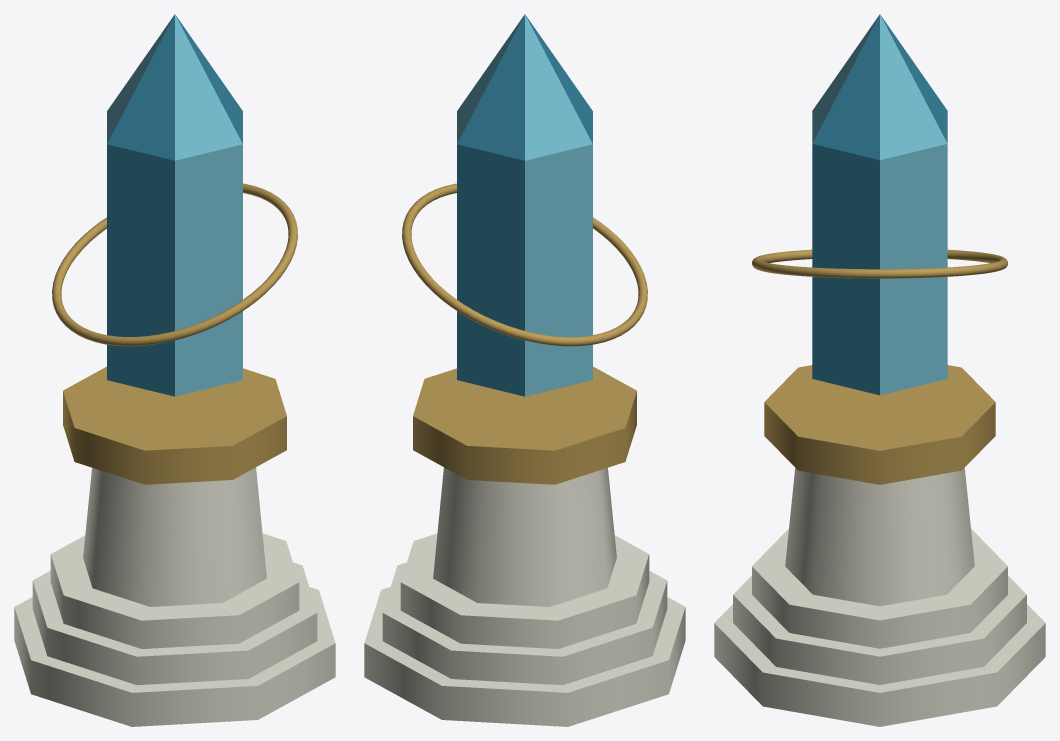
File: waystone.glb
The picture shows the model from 3 angles, left to right: view 1: azimuth 30°, elevation 25°; view 2: azimuth 150°, elevation 25°; view 3: azimuth 270°, elevation 25°; orthographic projection.
Parts seen in each view (by area): view 1: SourceMesh_00003, SourceMesh_00004, SourceMesh_00000, SourceMesh_00009, SourceMesh_00007, SourceMesh_00002, SourceMesh_00001, SourceMesh_00008, SourceMesh_00010, SourceMesh_00017, SourceMesh_00006, SourceMesh_00012; view 2: SourceMesh_00003, SourceMesh_00004, SourceMesh_00000, SourceMesh_00011, SourceMesh_00013, SourceMesh_00002, SourceMesh_00001, SourceMesh_00012, SourceMesh_00014, SourceMesh_00017, SourceMesh_00010, SourceMesh_00016; view 3: SourceMesh_00003, SourceMesh_00004, SourceMesh_00005, SourceMesh_00015, SourceMesh_00000, SourceMesh_00002, SourceMesh_00001, SourceMesh_00006, SourceMesh_00016, SourceMesh_00017, SourceMesh_00008, SourceMesh_00014.
Part boxes in pixels (x1=…): SourceMesh_00003: x1=83, y1=467, x2=266, y2=606; SourceMesh_00004: x1=63, y1=366, x2=286, y2=484; SourceMesh_00000: x1=14, y1=587, x2=335, y2=726; SourceMesh_00009: x1=107, y1=144, x2=174, y2=396; SourceMesh_00007: x1=175, y1=144, x2=242, y2=396; SourceMesh_00002: x1=50, y1=533, x2=299, y2=648; SourceMesh_00001: x1=32, y1=562, x2=317, y2=685; SourceMesh_00008: x1=175, y1=14, x2=242, y2=160; SourceMesh_00010: x1=107, y1=14, x2=174, y2=160; SourceMesh_00017: x1=52, y1=183, x2=297, y2=346; SourceMesh_00006: x1=176, y1=16, x2=242, y2=143; SourceMesh_00012: x1=107, y1=16, x2=173, y2=143; SourceMesh_00003: x1=433, y1=467, x2=616, y2=606; SourceMesh_00004: x1=413, y1=366, x2=636, y2=484; SourceMesh_00000: x1=364, y1=587, x2=685, y2=726; SourceMesh_00011: x1=525, y1=144, x2=592, y2=396; SourceMesh_00013: x1=457, y1=144, x2=524, y2=396; SourceMesh_00002: x1=400, y1=533, x2=649, y2=648; SourceMesh_00001: x1=382, y1=562, x2=667, y2=685; SourceMesh_00012: x1=525, y1=14, x2=592, y2=160; SourceMesh_00014: x1=457, y1=14, x2=524, y2=160; SourceMesh_00017: x1=402, y1=183, x2=647, y2=346; SourceMesh_00010: x1=526, y1=16, x2=592, y2=143; SourceMesh_00016: x1=457, y1=16, x2=523, y2=143; SourceMesh_00003: x1=785, y1=468, x2=974, y2=606; SourceMesh_00004: x1=764, y1=365, x2=995, y2=484; SourceMesh_00005: x1=812, y1=144, x2=879, y2=395; SourceMesh_00015: x1=880, y1=144, x2=947, y2=395; SourceMesh_00000: x1=714, y1=604, x2=1045, y2=726; SourceMesh_00002: x1=752, y1=529, x2=1007, y2=648; SourceMesh_00001: x1=733, y1=576, x2=1026, y2=684; SourceMesh_00006: x1=812, y1=14, x2=879, y2=160; SourceMesh_00016: x1=880, y1=14, x2=947, y2=160; SourceMesh_00017: x1=752, y1=249, x2=1007, y2=278; SourceMesh_00008: x1=812, y1=16, x2=878, y2=142; SourceMesh_00014: x1=881, y1=16, x2=947, y2=142.
Size of the model in its own units: 1.06 by 2.27 by 1.06.
